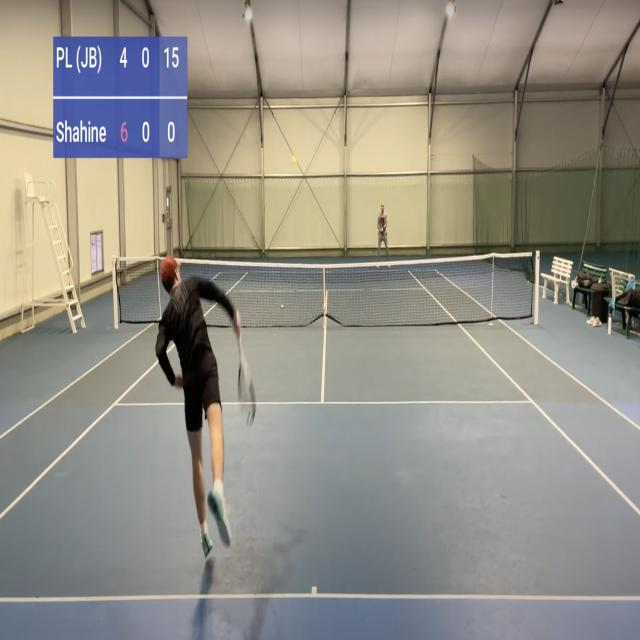ball: (290, 154, 296, 166)
